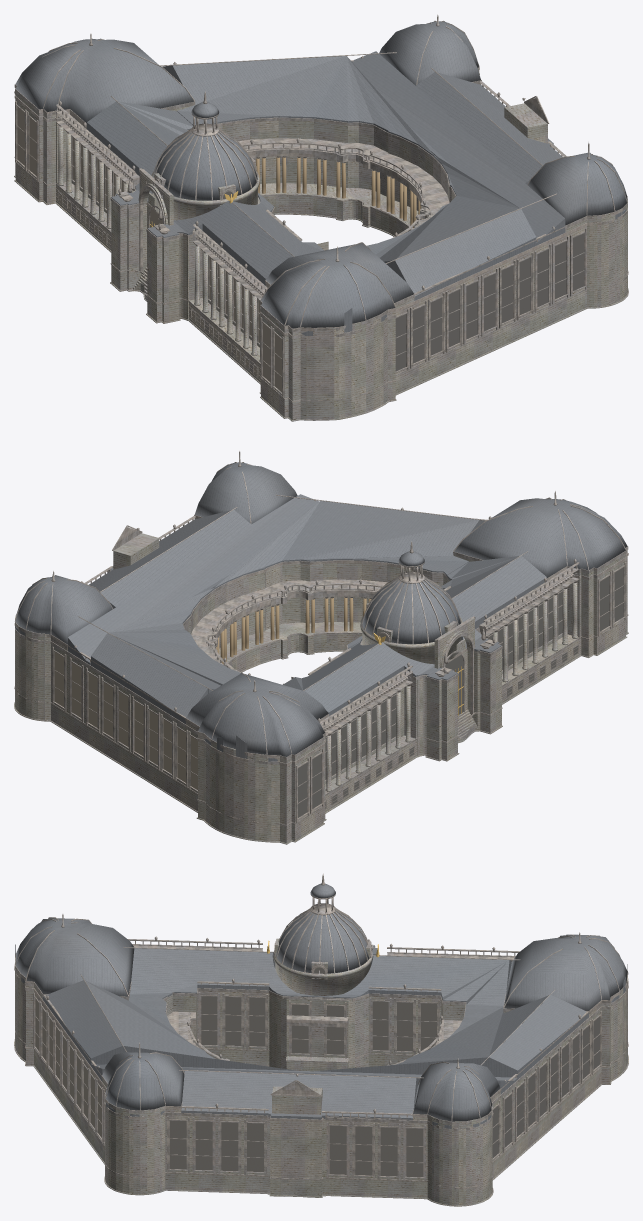
File: petit-palais.glb
3 views of the same model, one above another, from view 1: azimuth 30°, elevation 25°; view 2: azimuth 150°, elevation 25°; view 3: azimuth 270°, elevation 25° (orthographic). The views are drawn at different scales.
Visible parts, largest first — view 1: roof, stone, trim, window, glass; view 2: roof, stone, trim, window, glass; view 3: roof, stone, trim, window.
Part boxes in pixels (x1,y1,x2,y2): roof: [15, 21, 627, 335]; stone: [14, 63, 628, 421]; trim: [14, 14, 628, 402]; window: [17, 107, 583, 392]; glass: [256, 157, 423, 227]; roof: [15, 462, 627, 761]; stone: [14, 518, 628, 844]; trim: [14, 451, 628, 826]; window: [54, 567, 623, 817]; glass: [216, 597, 370, 663]; roof: [15, 883, 627, 1128]; stone: [14, 938, 628, 1206]; trim: [14, 873, 628, 1188]; window: [35, 967, 599, 1177].
Bounding box in the file's own units: 93.3 × 42 × 130.
Materials: 6 (6 with a texture image).
